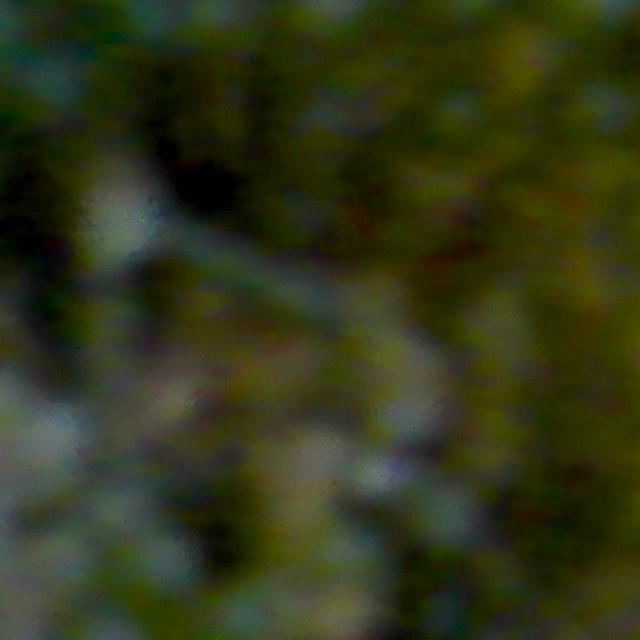SeaGrape: (75, 174, 167, 272), (12, 406, 88, 506), (490, 22, 570, 104), (12, 44, 92, 124), (409, 478, 487, 556), (119, 526, 199, 601), (27, 524, 103, 601), (308, 518, 384, 592), (567, 71, 640, 145), (86, 475, 158, 544), (76, 294, 146, 362), (426, 87, 490, 149), (415, 589, 466, 640)
